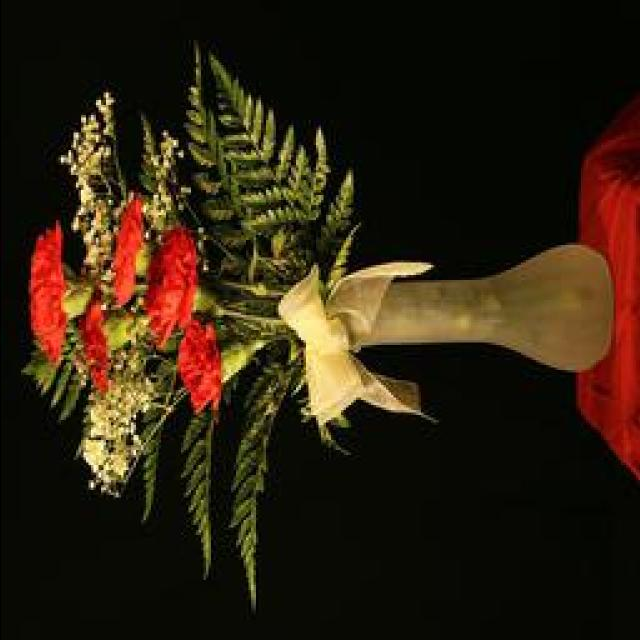carnation: (21, 223, 98, 373)
